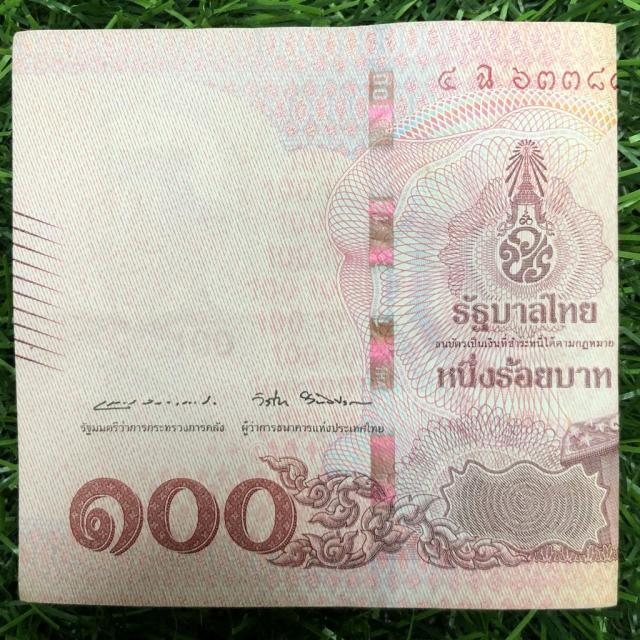THAI100: (13, 22, 618, 608)
